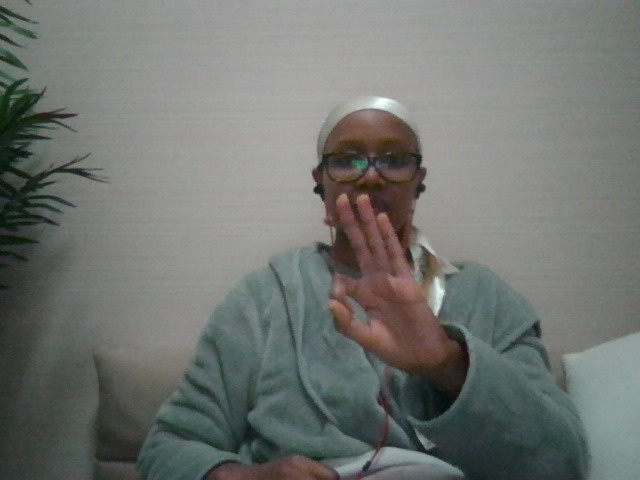ok: (322, 188, 458, 384)
